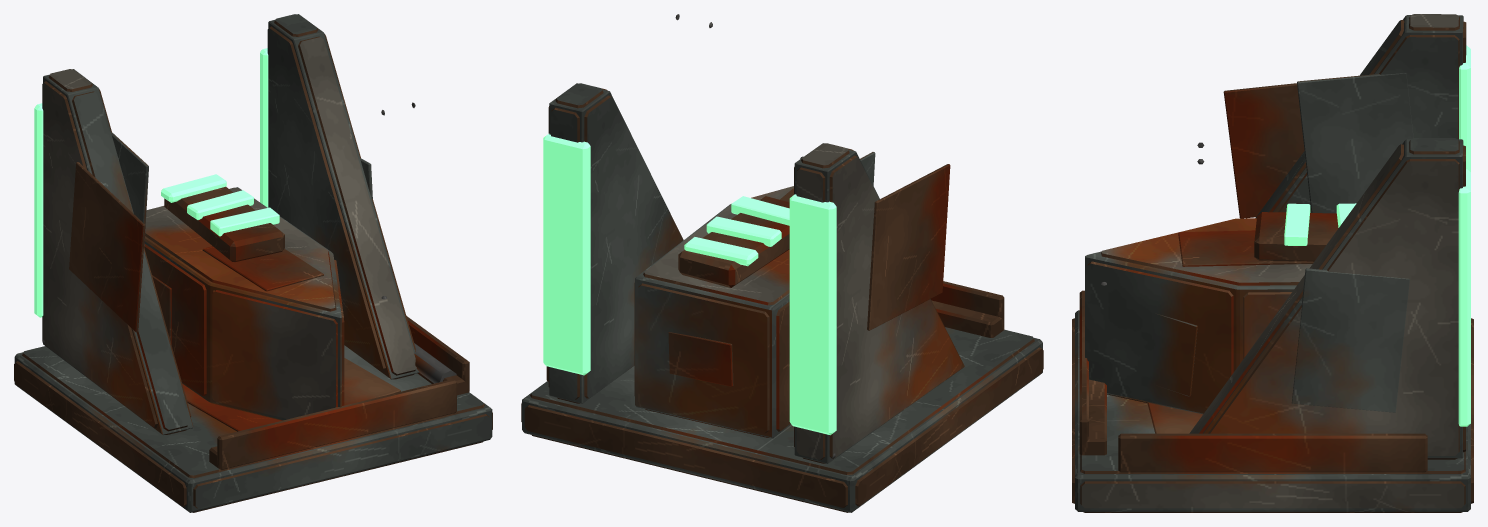
Rendered from R4X_MobilityBooster.glb.
The picture shows the model from 3 angles, left to right: view 1: azimuth 30°, elevation 25°; view 2: azimuth 150°, elevation 25°; view 3: azimuth 270°, elevation 25°; orthographic projection. The views are drawn at different scales.
Parts seen in each view (by area): view 1: R4X_MobilityBooster_Body; view 2: R4X_MobilityBooster_Body; view 3: R4X_MobilityBooster_Body.
Part boxes in pixels (x1,y1,x2,y2): R4X_MobilityBooster_Body: (14,14,492,512); R4X_MobilityBooster_Body: (521,14,1043,512); R4X_MobilityBooster_Body: (1072,14,1473,512).
Bounding box in the file's own units: 0.52 × 0.5 × 0.52.
5 materials, 4 textured.
